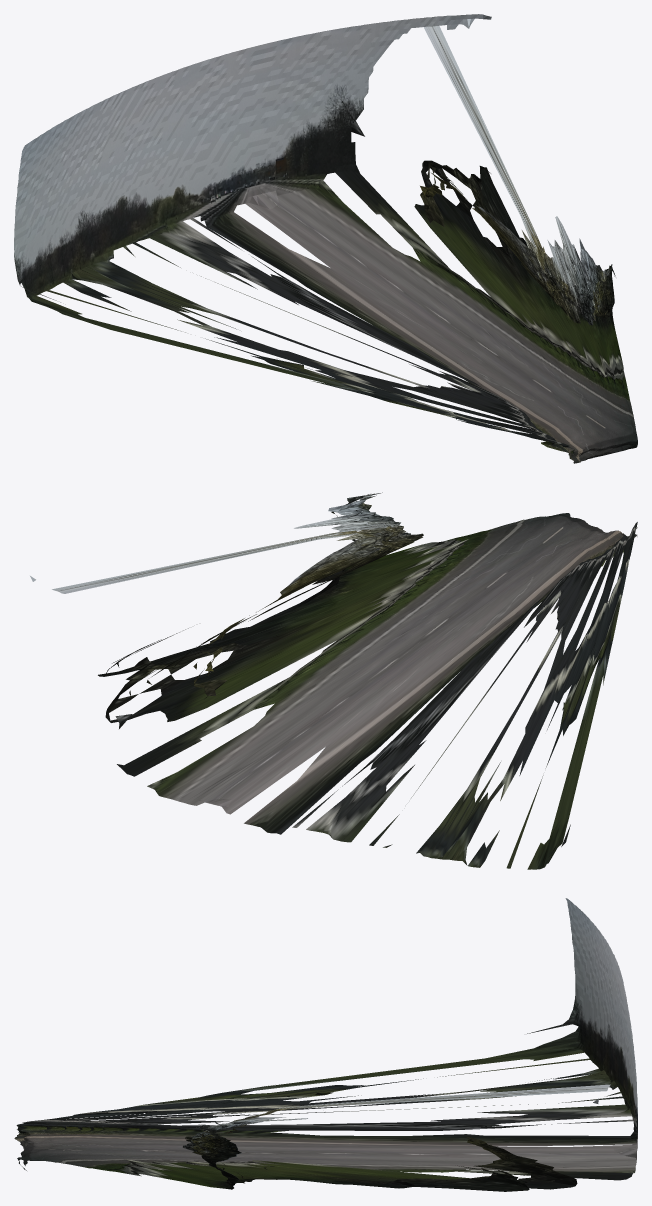
The picture shows the model from 3 angles, top to bottom: view 1: azimuth 30°, elevation 25°; view 2: azimuth 150°, elevation 25°; view 3: azimuth 270°, elevation 25°; orthographic projection. The views are drawn at different scales.
Parts seen in each view (by area): view 1: defaultobject; view 2: defaultobject; view 3: defaultobject.
Boxes of the visible parts, x1,y1,x2,y2 form: defaultobject: [14, 14, 637, 463]; defaultobject: [30, 492, 637, 869]; defaultobject: [14, 898, 637, 1191].
Bounding box in the file's own units: 35.82 × 12.57 × 44.7.
Materials: 1 (1 with a texture image).
